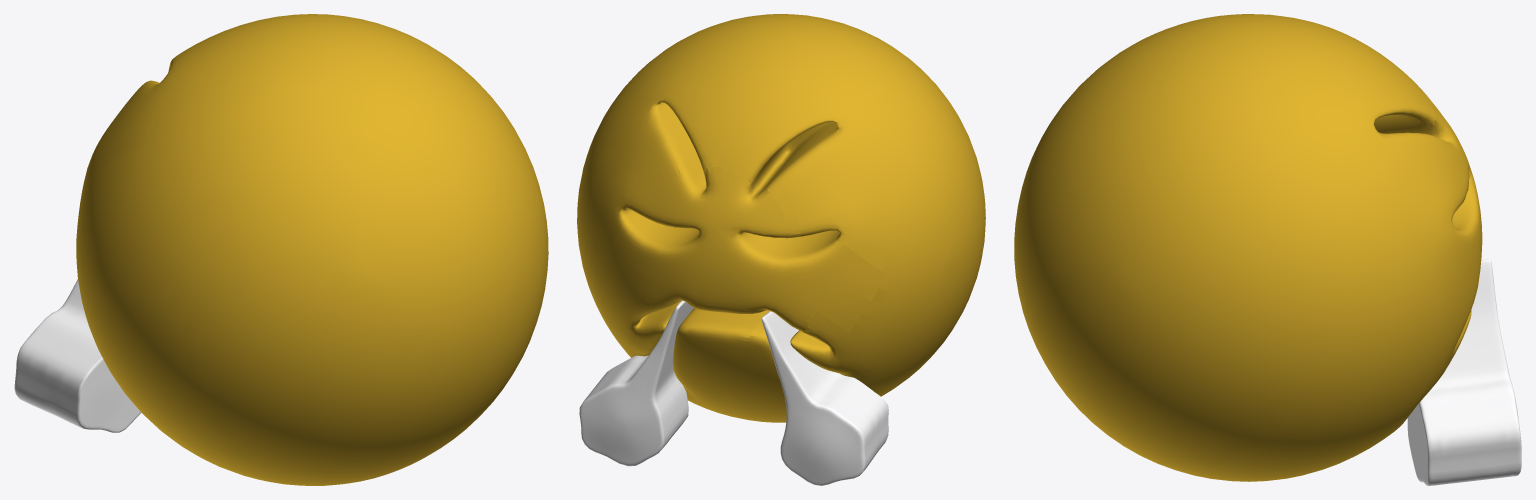
Rendered from triump 3DS.glb.
3 renders of one model, left to right at view 1: azimuth 30°, elevation 25°; view 2: azimuth 150°, elevation 25°; view 3: azimuth 270°, elevation 25°, orthographic. The views are drawn at different scales.
Parts seen in each view (by area): view 1: Group45897, Group1; view 2: Group45897, Group1, ZBrush_def; view 3: Group45897, ZBrush_def.
Boxes of the visible parts, x1,y1,x2,y2 form: Group45897: (76,14,548,485); Group1: (14,279,141,432); Group45897: (577,14,985,422); Group1: (761,311,888,485); ZBrush_def: (579,300,693,466); Group45897: (1014,14,1482,481); ZBrush_def: (1407,259,1521,485).
Bounding box in the file's own units: 0.5209 × 0.5207 × 0.5654.
